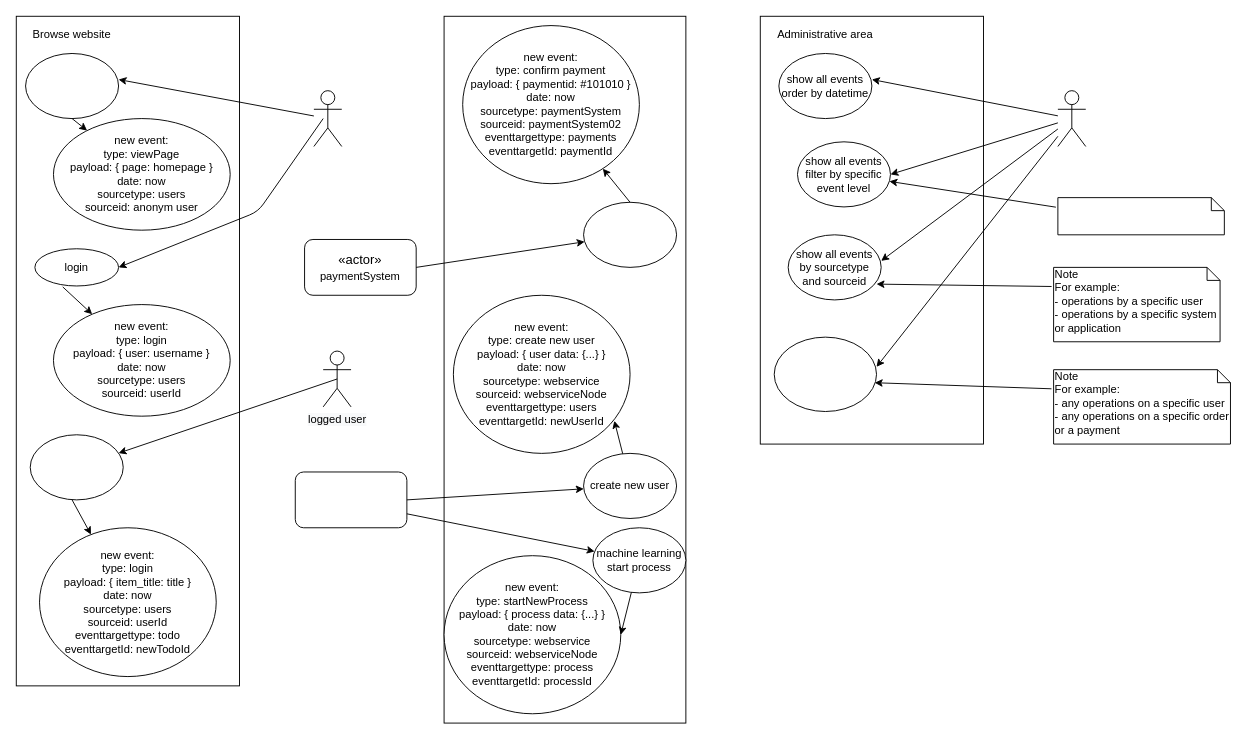
Some shapes in this 1247 by 739 pixel diagram are drawn without their labels. The centre of each missing label's shape, as x and y in pixels:
"add todo item" belongs at pixel 76 467.
"administrator" belongs at pixel 1071 118.
"anonym user" belongs at pixel 327 118.
"callback" belongs at pixel 630 234.
"Note For example only errors" belongs at pixel 1140 216.
"open home page" belongs at pixel 72 86.
"show all events relative to targettypeid and sourcetype" belongs at pixel 825 374.
"«actor » web service" belongs at pixel 350 499.
